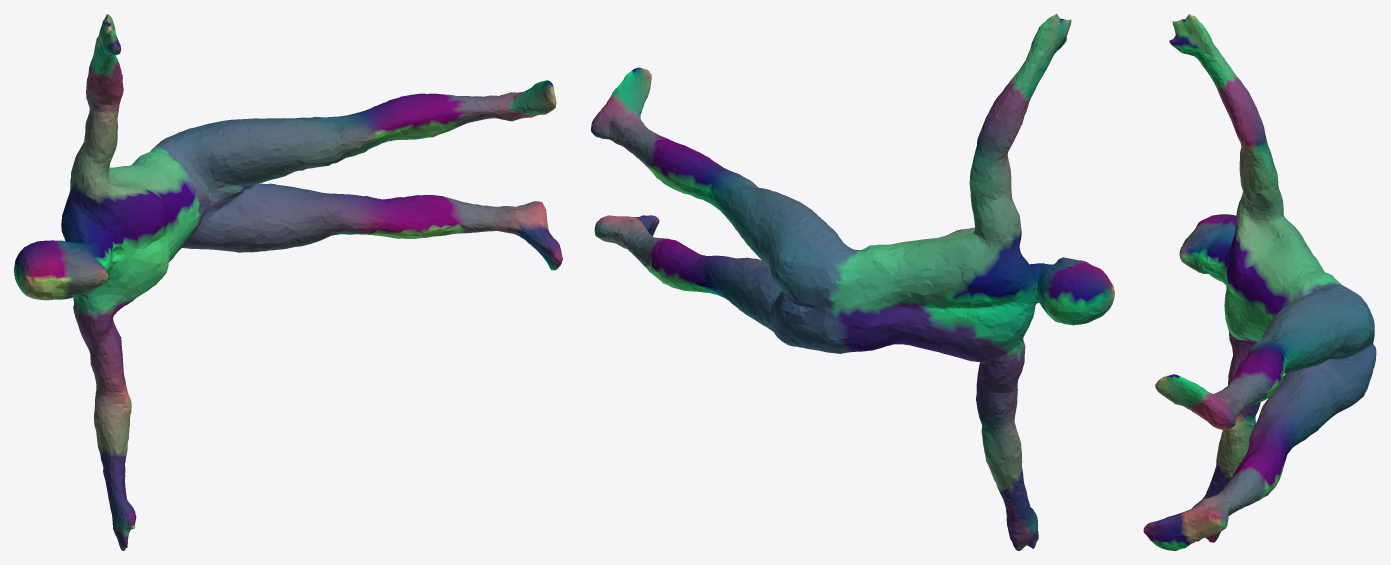
File: man-15.off.obj
3 renders of one model, left to right at view 1: azimuth 30°, elevation 25°; view 2: azimuth 150°, elevation 25°; view 3: azimuth 270°, elevation 25°, orthographic. The views are drawn at different scales.
Bounding box in the file's own units: 1.46 × 1.45 × 0.5909.
